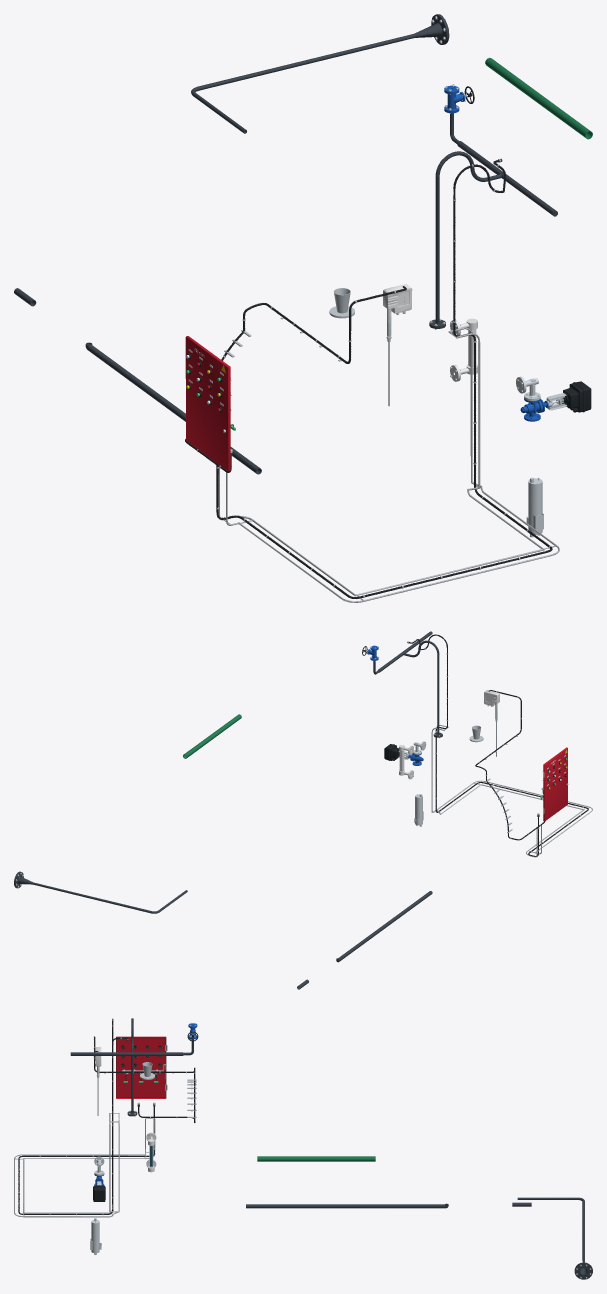
Rendered from s4000-4-DRDufNBa.glb.
The picture shows the model from 3 angles, top to bottom: view 1: azimuth 30°, elevation 25°; view 2: azimuth 150°, elevation 25°; view 3: azimuth 270°, elevation 25°; orthographic projection. The views are drawn at different scales.
Visible parts, largest first — view 1: cabinet_door / cabinet_door_5.npz, cables / zinc, wiring_pressure_switch_3 / black, pressure_header / dark, tds_to_fv / dark, bcv925 / bcv925_0.npz, pump_delivery / green, bottom_piping / dark, lcs600 CAD solid 0, wiring_lcs600 / black, sc9 / sc9_0.npz; view 2: cabinet_door / cabinet_door_5.npz, cables / zinc, wiring_pressure_switch_3 / black, pressure_header / dark, tds_to_fv / dark, bottom_piping / dark; view 3: cabinet_door / cabinet_door_5.npz, cables / zinc, bottom_piping / dark, wiring_pressure_switch_3 / black, pressure_header / dark, pump_delivery / green, tds_to_fv / dark, wiring_lcs600 / black.
Part boxes in pixels (x1=…): cabinet_door / cabinet_door_5.npz: x1=185, y1=336, x2=231, y2=471; cables / zinc: x1=218, y1=327, x2=559, y2=602; wiring_pressure_switch_3 / black: x1=216, y1=160, x2=552, y2=598; pressure_header / dark: x1=429, y1=113, x2=557, y2=328; tds_to_fv / dark: x1=191, y1=14, x2=449, y2=133; bcv925 / bcv925_0.npz: x1=520, y1=381, x2=591, y2=421; pump_delivery / green: x1=485, y1=57, x2=592, y2=139; bottom_piping / dark: x1=85, y1=342, x2=261, y2=474; lcs600 CAD solid 0: x1=383, y1=284, x2=412, y2=406; wiring_lcs600 / black: x1=185, y1=286, x2=406, y2=472; sc9 / sc9_0.npz: x1=526, y1=477, x2=543, y2=537; cabinet_door / cabinet_door_5.npz: x1=542, y1=747, x2=568, y2=821; cables / zinc: x1=431, y1=725, x2=592, y2=857; wiring_pressure_switch_3 / black: x1=409, y1=634, x2=588, y2=856; pressure_header / dark: x1=373, y1=631, x2=442, y2=737; tds_to_fv / dark: x1=14, y1=871, x2=187, y2=913; bottom_piping / dark: x1=336, y1=891, x2=432, y2=962; cabinet_door / cabinet_door_5.npz: x1=116, y1=1036, x2=167, y2=1098; cables / zinc: x1=14, y1=1113, x2=155, y2=1217; bottom_piping / dark: x1=246, y1=1203, x2=448, y2=1208; wiring_pressure_switch_3 / black: x1=18, y1=1018, x2=154, y2=1214; pressure_header / dark: x1=70, y1=1018, x2=193, y2=1116; pump_delivery / green: x1=257, y1=1156, x2=375, y2=1161; tds_to_fv / dark: x1=517, y1=1197, x2=592, y2=1279; wiring_lcs600 / black: x1=94, y1=1036, x2=195, y2=1122.
Bounding box in the file's own units: 4.43 × 2.67 × 6.12.
